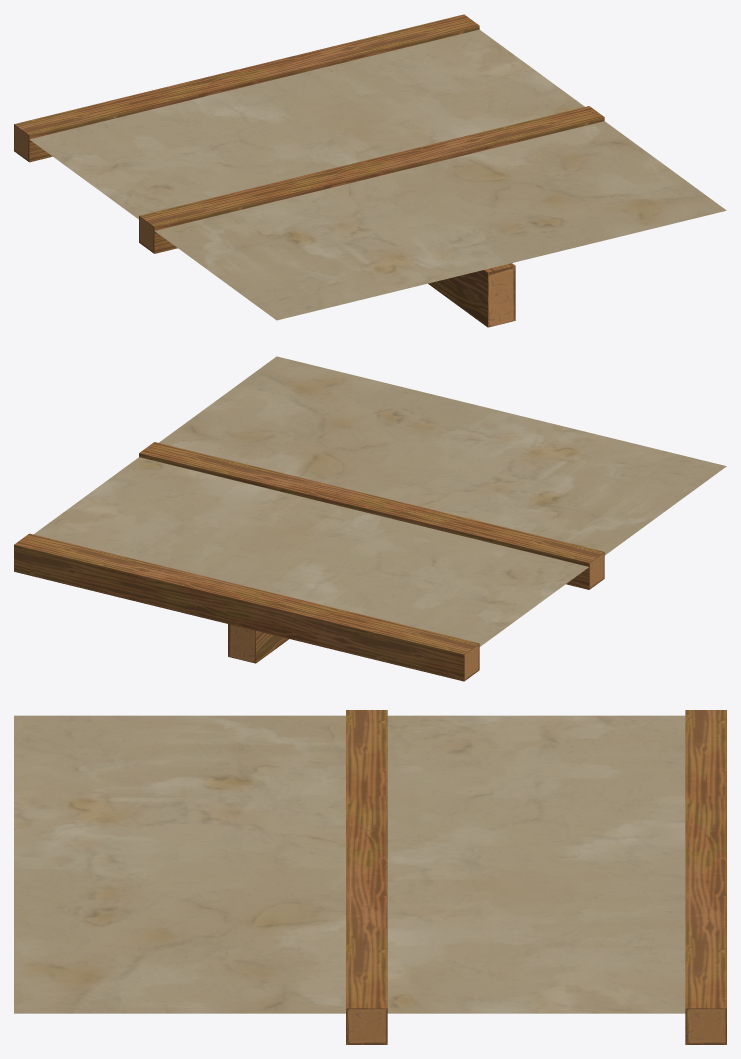
File: Overhang_Roof_Plaster.obj
The picture shows the model from 3 angles, top to bottom: view 1: azimuth 30°, elevation 25°; view 2: azimuth 150°, elevation 25°; view 3: azimuth 270°, elevation 25°; orthographic projection. The views are drawn at different scales.
Parts seen in each view (by area): view 1: Overhang_Roof_Plaster; view 2: Overhang_Roof_Plaster; view 3: Overhang_Roof_Plaster.
Boxes of the visible parts, left/top/right/bottom form: Overhang_Roof_Plaster: left=14, top=14, right=726, bottom=327; Overhang_Roof_Plaster: left=14, top=356, right=726, bottom=681; Overhang_Roof_Plaster: left=14, top=710, right=726, bottom=1044.
Bounding box in the file's own units: 2 × 0.2659 × 2.02.
